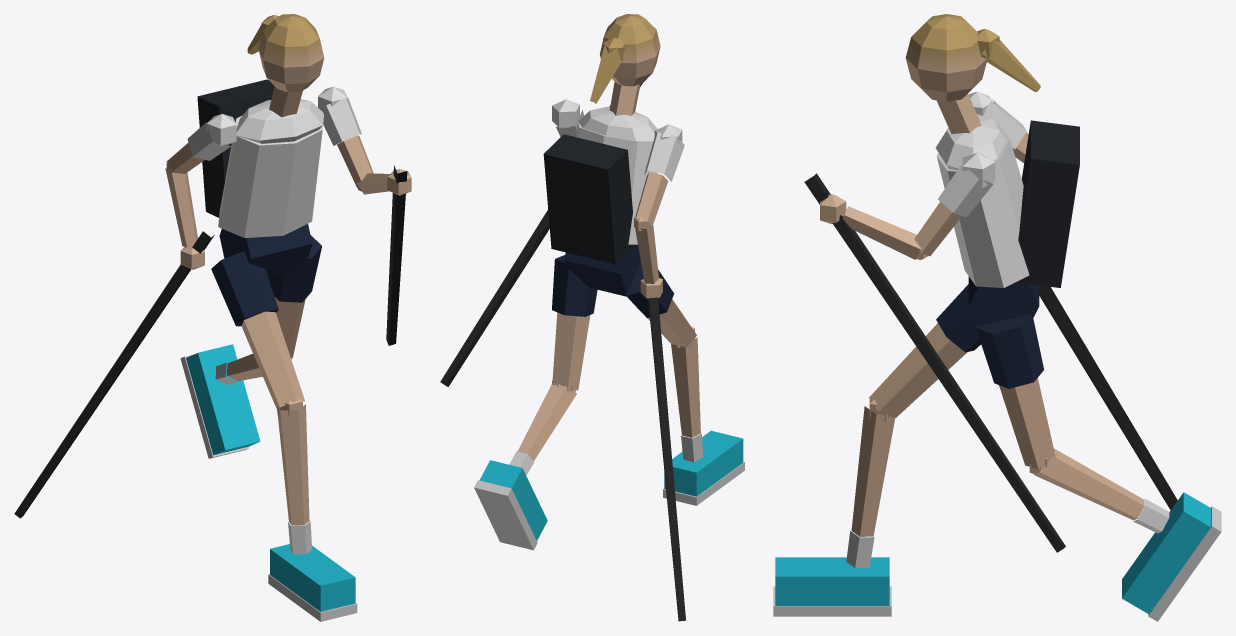
The model's file is corredor-d.glb.
3 views of the same model, side by side, from view 1: azimuth 30°, elevation 25°; view 2: azimuth 150°, elevation 25°; view 3: azimuth 270°, elevation 25° (orthographic). The views are drawn at different scales.
Parts seen in each view (by area): view 1: Corredor_D_MujerAltaDelgada_EXP; view 2: Corredor_D_MujerAltaDelgada_EXP; view 3: Corredor_D_MujerAltaDelgada_EXP.
Boxes of the visible parts, x1,y1,x2,y2 form: Corredor_D_MujerAltaDelgada_EXP: (14,14,411,621); Corredor_D_MujerAltaDelgada_EXP: (440,14,744,621); Corredor_D_MujerAltaDelgada_EXP: (773,14,1221,621).
Size of the model in its own units: 1.1 by 1.75 by 1.17.
